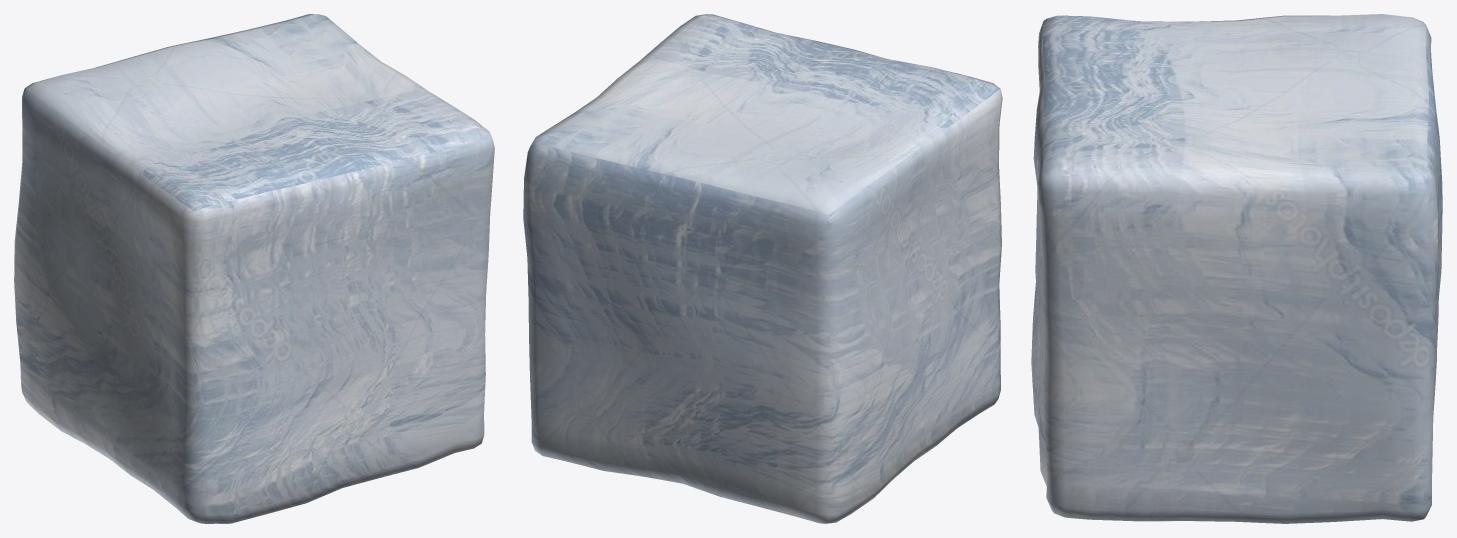
File: IceCube.fbx
3 views of the same model, side by side, from view 1: azimuth 30°, elevation 25°; view 2: azimuth 150°, elevation 25°; view 3: azimuth 270°, elevation 25° (orthographic). The views are drawn at different scales.
Visible parts, largest first — view 1: Cube; view 2: Cube; view 3: Cube.
Boxes of the visible parts, x1,y1,x2,y2 form: Cube: (14,14,494,523); Cube: (523,14,1002,523); Cube: (1031,14,1442,523).
Size of the model in its own units: 198 by 197 by 197.
1 material, 1 textured.
